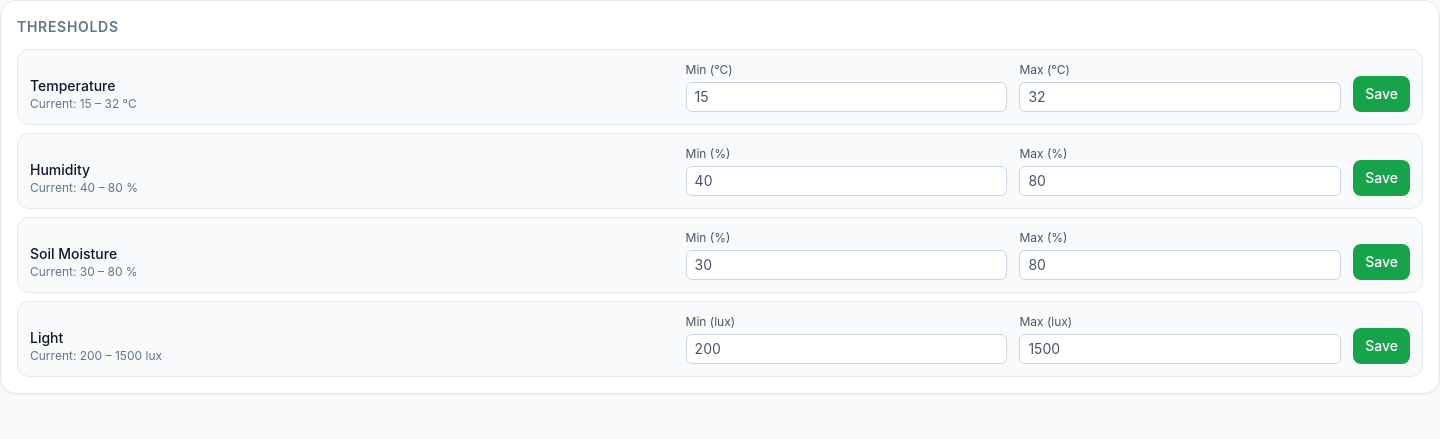
Test case: <ThresholdsForm /> › submits a valid update to the API
The image size is (1440, 439).
Replace the text in the number field named "minimum" with "10" at (846, 97), box x1=686 y1=82 x2=1007 y2=112
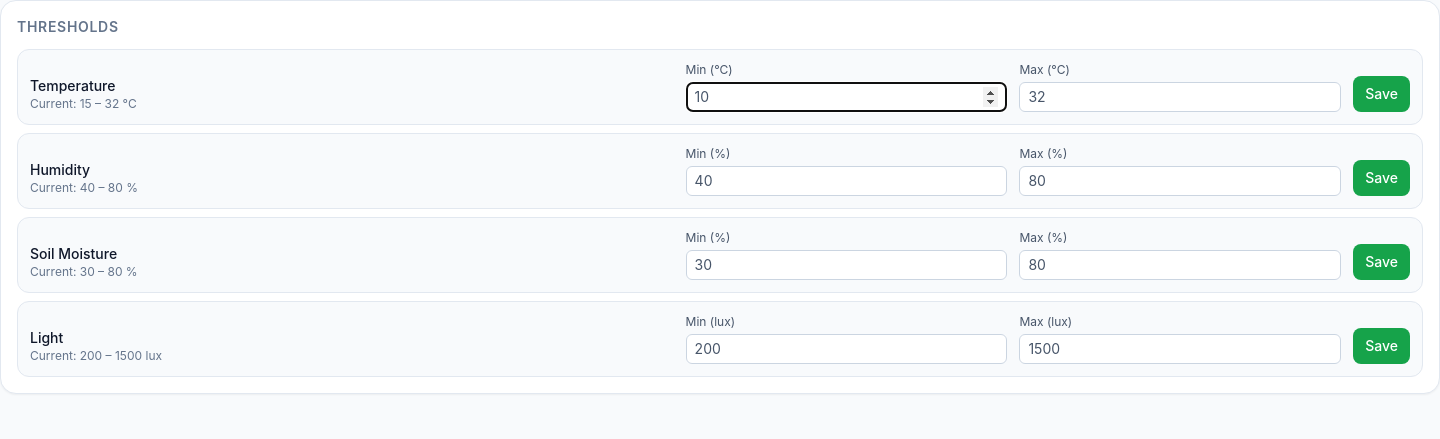
Replace the text in the number field named "maximum" with "30" at (1180, 97), box x1=1019 y1=82 x2=1341 y2=112
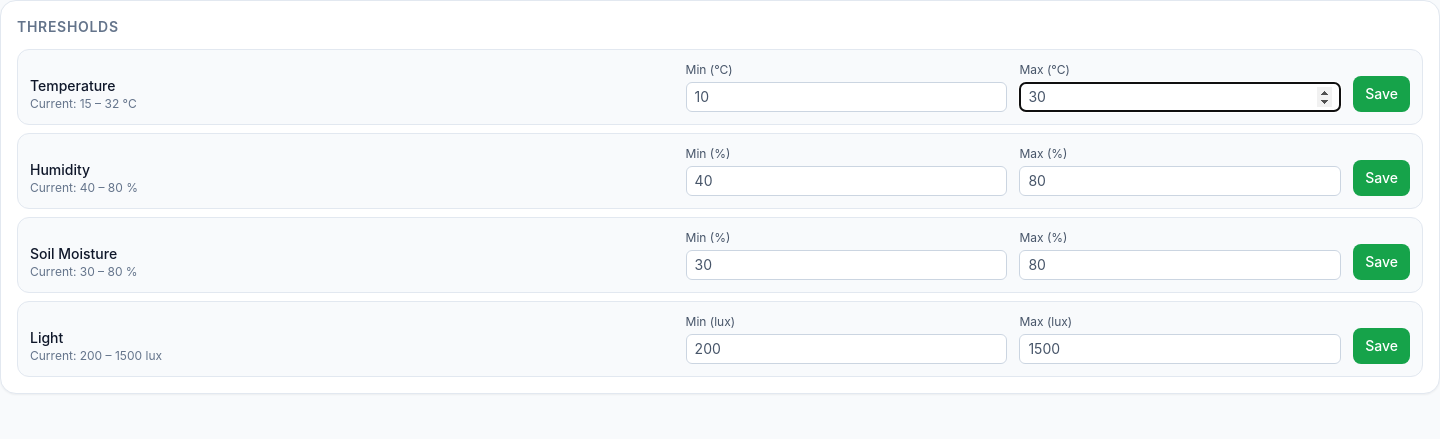
Click the button "Save" in the row of "32" at (1382, 94), box x1=1353 y1=76 x2=1410 y2=112
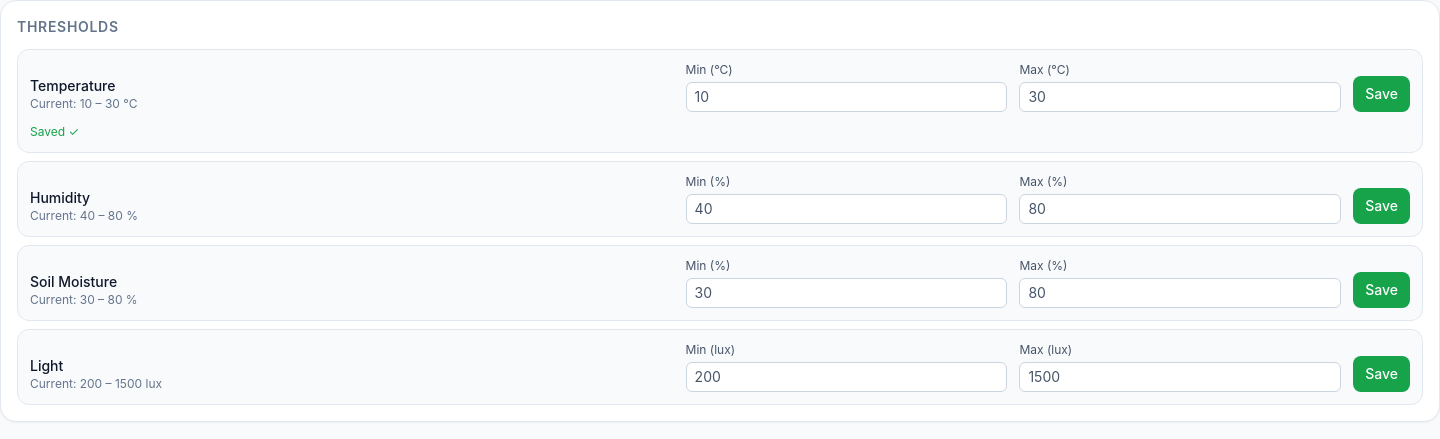
Expected: the text "Saved ✓" is shown, x1=30 y1=124 x2=79 y2=139
